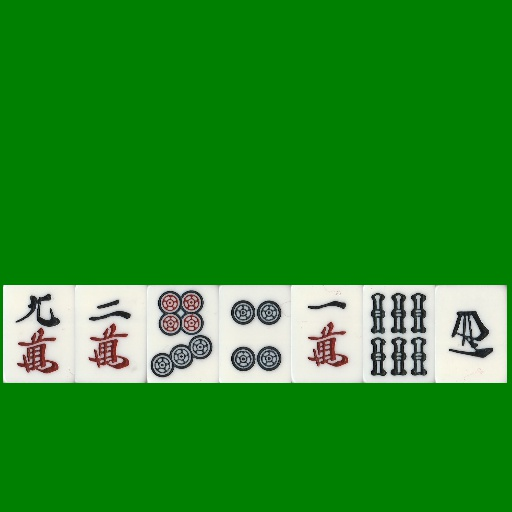1m: (291, 285, 363, 383)
2m: (75, 285, 147, 383)
4p: (219, 285, 291, 383)
6s: (363, 285, 435, 383)
7p: (147, 285, 219, 383)
9m: (3, 285, 75, 383)
west: (435, 285, 507, 383)
